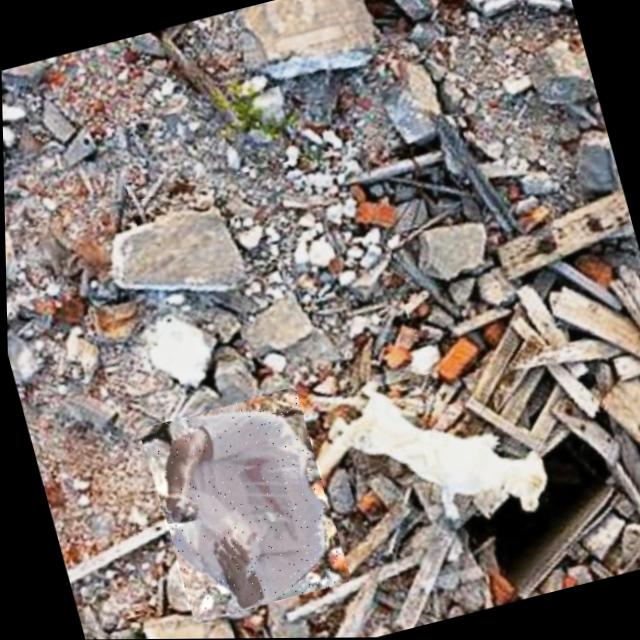Person in Rubble: (135, 387, 347, 624)
